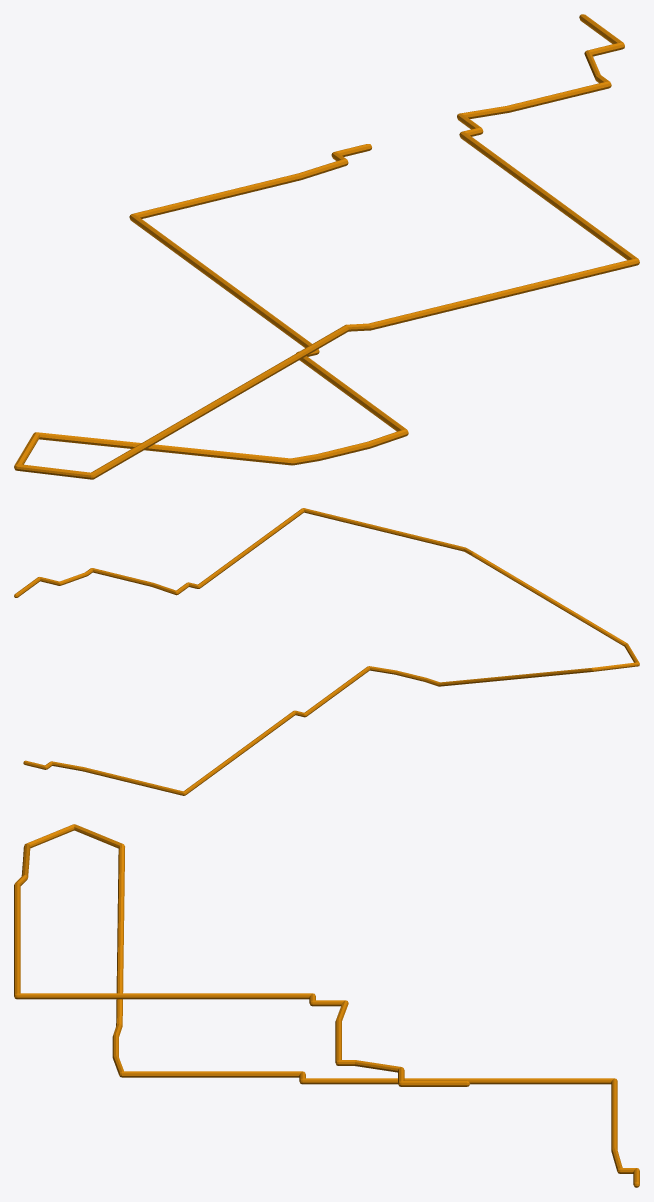
3 renders of one model, top to bottom at view 1: azimuth 30°, elevation 25°; view 2: azimuth 150°, elevation 25°; view 3: azimuth 270°, elevation 25°, orthographic. The views are drawn at different scales.
Bounding box in the file's own units: 2406 × 520 × 1907.
